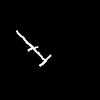double_crochet: (16, 31, 50, 65)
